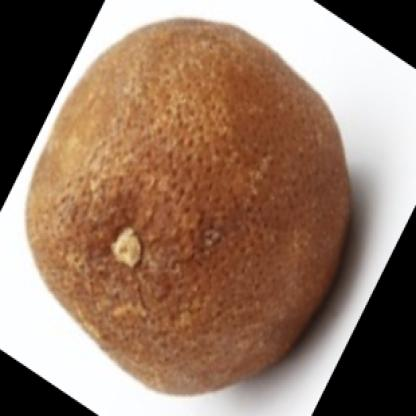rotten: (25, 18, 354, 395)
